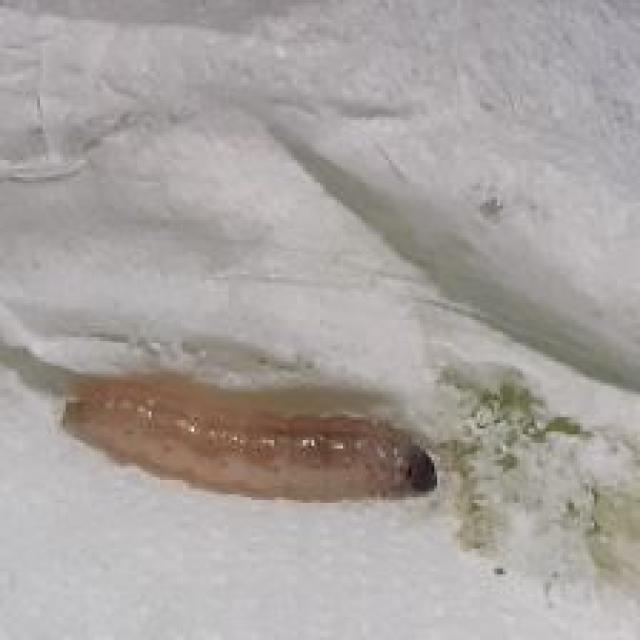white mucus: (49, 380, 443, 529)
